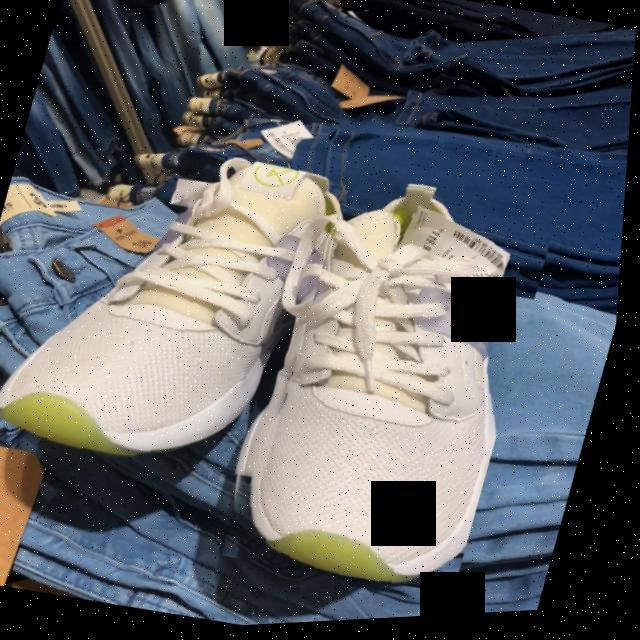shoe: (251, 191, 515, 588), (0, 160, 342, 460)
